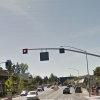Car: (59, 84, 85, 95)
